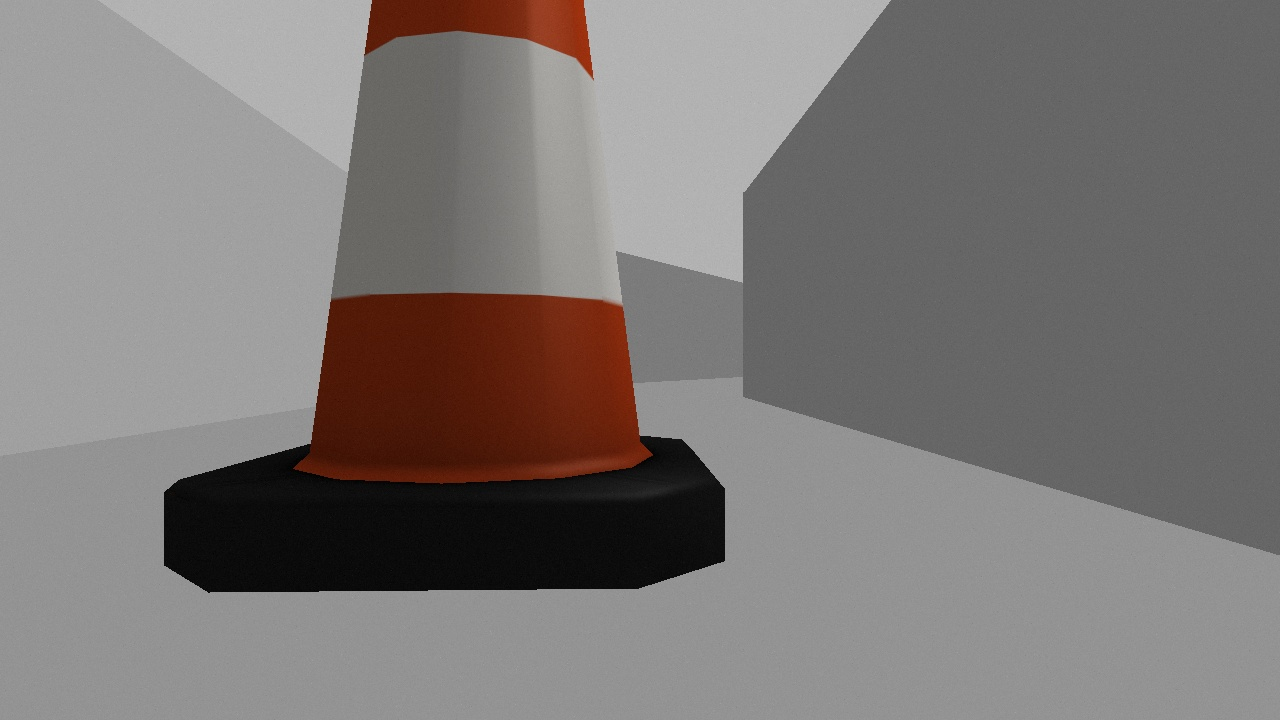barricade: (162, 1, 728, 591)
